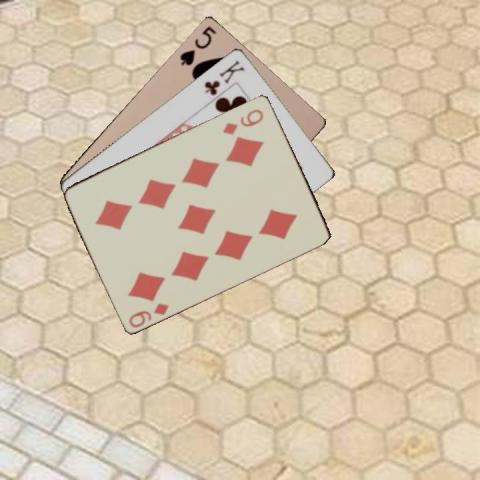5s: (177, 23, 218, 67)
9d: (220, 105, 266, 136), (126, 299, 171, 329)
Kc: (201, 56, 247, 97)
